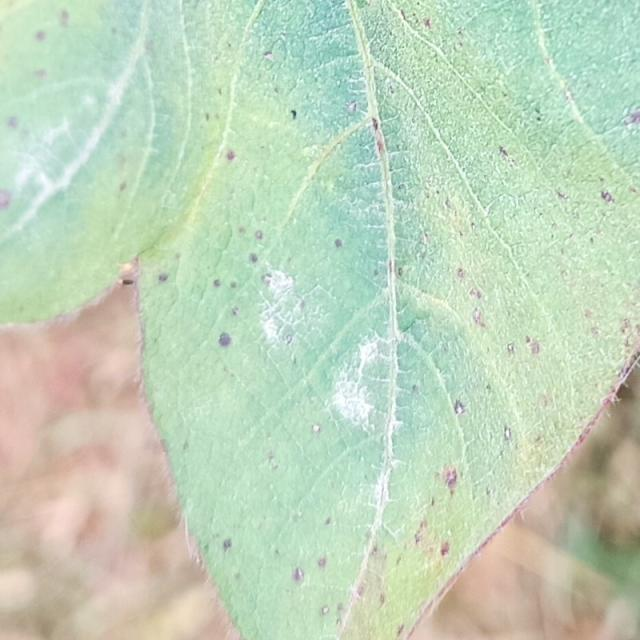Bacterial_Blight: (210, 325, 241, 352), (219, 534, 236, 554), (623, 112, 640, 131), (0, 189, 11, 210), (266, 454, 279, 471), (602, 393, 616, 408), (473, 312, 486, 328), (600, 189, 614, 203), (454, 399, 467, 414), (621, 318, 633, 334), (293, 568, 305, 583), (528, 339, 540, 354), (577, 429, 588, 445), (346, 101, 359, 114), (370, 546, 382, 560), (498, 145, 510, 159), (447, 473, 457, 489), (60, 10, 70, 26), (7, 116, 19, 129), (376, 137, 385, 154), (145, 39, 155, 54), (35, 30, 47, 42), (356, 584, 366, 598), (540, 394, 550, 408), (441, 542, 450, 557), (261, 273, 272, 285), (225, 149, 236, 161), (556, 189, 568, 200), (35, 69, 47, 80), (158, 272, 169, 283), (504, 426, 512, 440), (159, 437, 167, 451), (421, 232, 429, 246), (263, 50, 274, 60), (317, 557, 327, 568), (415, 532, 424, 544), (312, 424, 322, 434), (249, 253, 258, 263), (334, 238, 343, 248), (591, 326, 600, 336), (285, 334, 293, 345), (119, 181, 127, 192), (457, 268, 465, 279), (424, 18, 432, 29), (372, 119, 379, 131), (379, 594, 386, 606), (400, 9, 407, 21), (584, 310, 593, 319), (507, 343, 515, 353), (255, 230, 263, 240), (324, 516, 332, 526), (290, 109, 297, 120), (182, 440, 189, 451), (397, 624, 404, 635), (195, 555, 202, 566), (267, 452, 275, 461), (213, 279, 221, 288), (238, 226, 246, 235), (336, 604, 344, 613), (397, 183, 406, 191), (321, 606, 329, 615), (457, 29, 465, 38), (628, 186, 637, 194), (561, 270, 569, 279), (232, 306, 239, 316), (388, 85, 395, 95), (397, 266, 403, 277), (396, 555, 402, 566), (534, 435, 542, 443), (534, 107, 542, 115), (475, 290, 482, 299), (412, 384, 419, 393), (293, 513, 300, 522), (300, 299, 306, 309), (445, 199, 451, 209), (230, 281, 237, 289), (336, 617, 342, 626), (234, 571, 240, 580), (205, 112, 210, 122), (430, 497, 435, 507), (551, 222, 557, 230), (486, 487, 491, 496), (217, 87, 222, 96), (536, 115, 542, 122), (599, 176, 605, 183), (589, 236, 594, 244), (486, 383, 491, 391)
Cotton: (0, 0, 639, 639)
